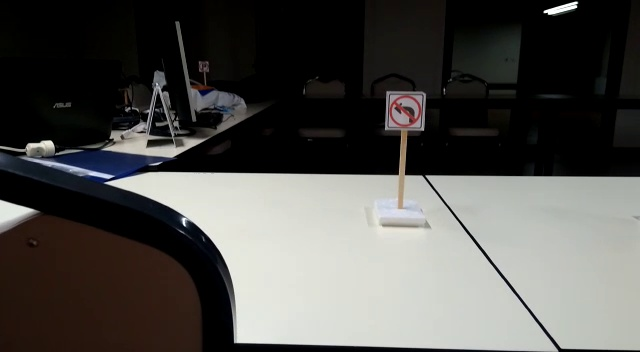sola_donulmez: (385, 89, 426, 132)
